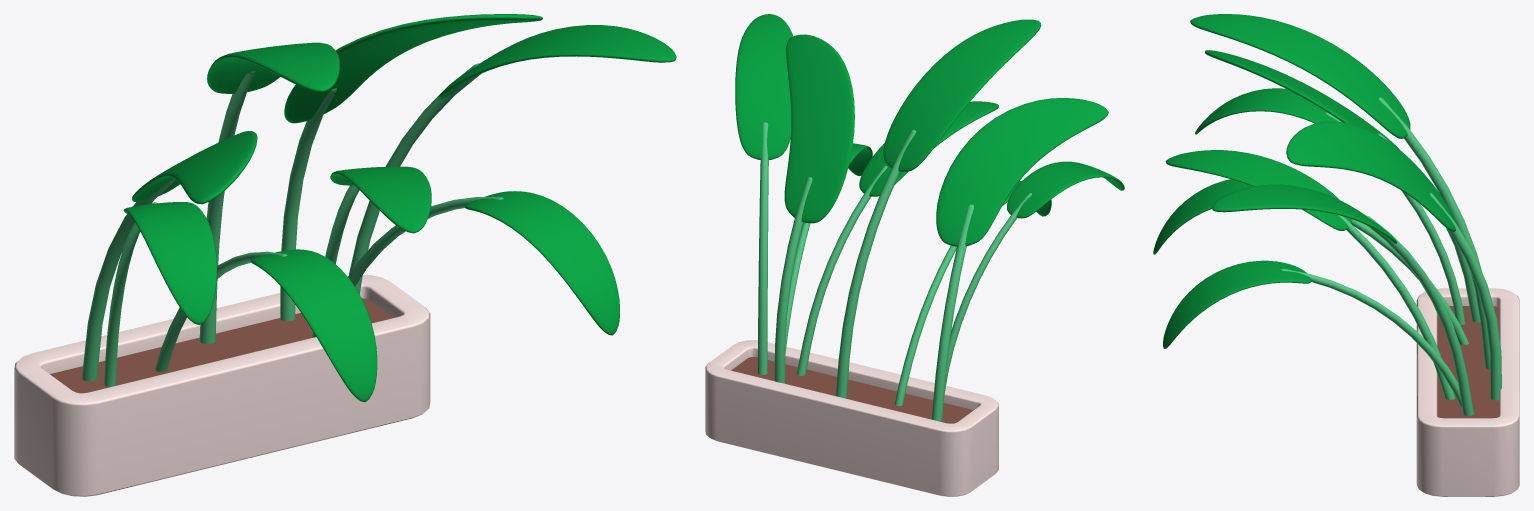
Rendered from City_15_Plant_2.glb.
The picture shows the model from 3 angles, left to right: view 1: azimuth 30°, elevation 25°; view 2: azimuth 150°, elevation 25°; view 3: azimuth 270°, elevation 25°; orthographic projection. The views are drawn at different scales.
Parts seen in each view (by area): view 1: City_15_Plant_2; view 2: City_15_Plant_2; view 3: City_15_Plant_2.
Boxes of the visible parts, left/top/right/bottom form: City_15_Plant_2: left=14, top=14, right=676, bottom=496; City_15_Plant_2: left=705, top=14, right=1124, bottom=496; City_15_Plant_2: left=1153, top=14, right=1519, bottom=496.
Bounding box in the file's own units: 2.35 × 2.21 × 1.93.
1 material, 1 textured.
